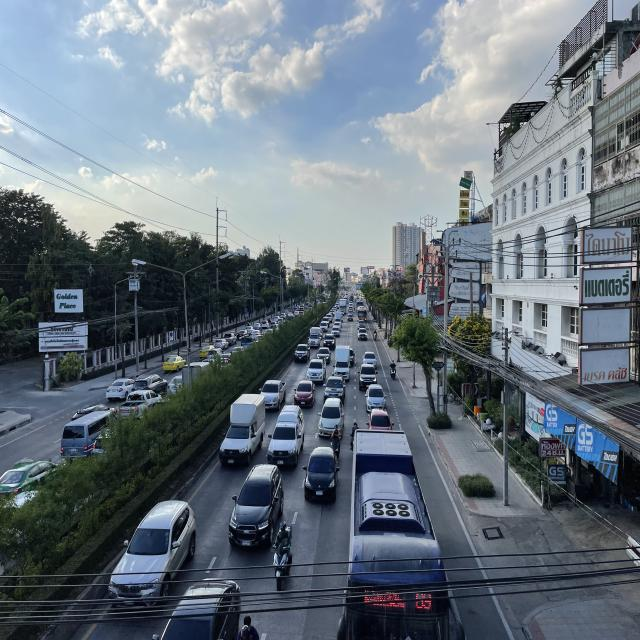bike: (272, 518, 294, 590), (328, 424, 342, 462), (350, 420, 360, 452), (389, 358, 398, 382)
bus: (349, 431, 449, 640)
car: (106, 499, 196, 614), (152, 574, 242, 640), (228, 464, 284, 549), (303, 446, 340, 506), (318, 398, 345, 439), (257, 380, 287, 410), (293, 380, 316, 409), (324, 376, 346, 405), (366, 383, 386, 414), (366, 409, 394, 431), (359, 364, 378, 391), (306, 360, 326, 382), (294, 344, 310, 363), (316, 348, 331, 363)
truck: (218, 395, 264, 468), (268, 403, 305, 468), (334, 346, 351, 381), (308, 326, 321, 348)
